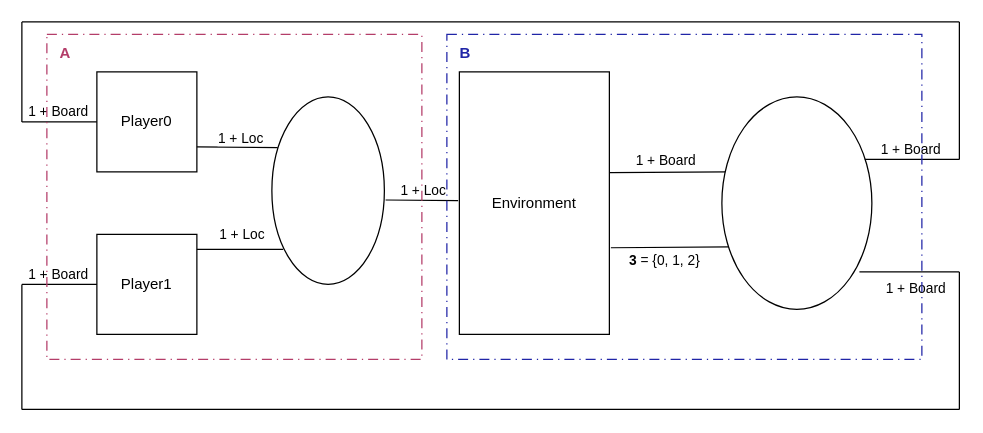
Image size: 983x433. Some labels were removed from this diagram. Here are the shapes that lost their labels. From the top down, the centre of each, then its label:
At (x=327, y=190): "mux(Move,2)".
At (x=796, y=202): "demux(Board,2)".
